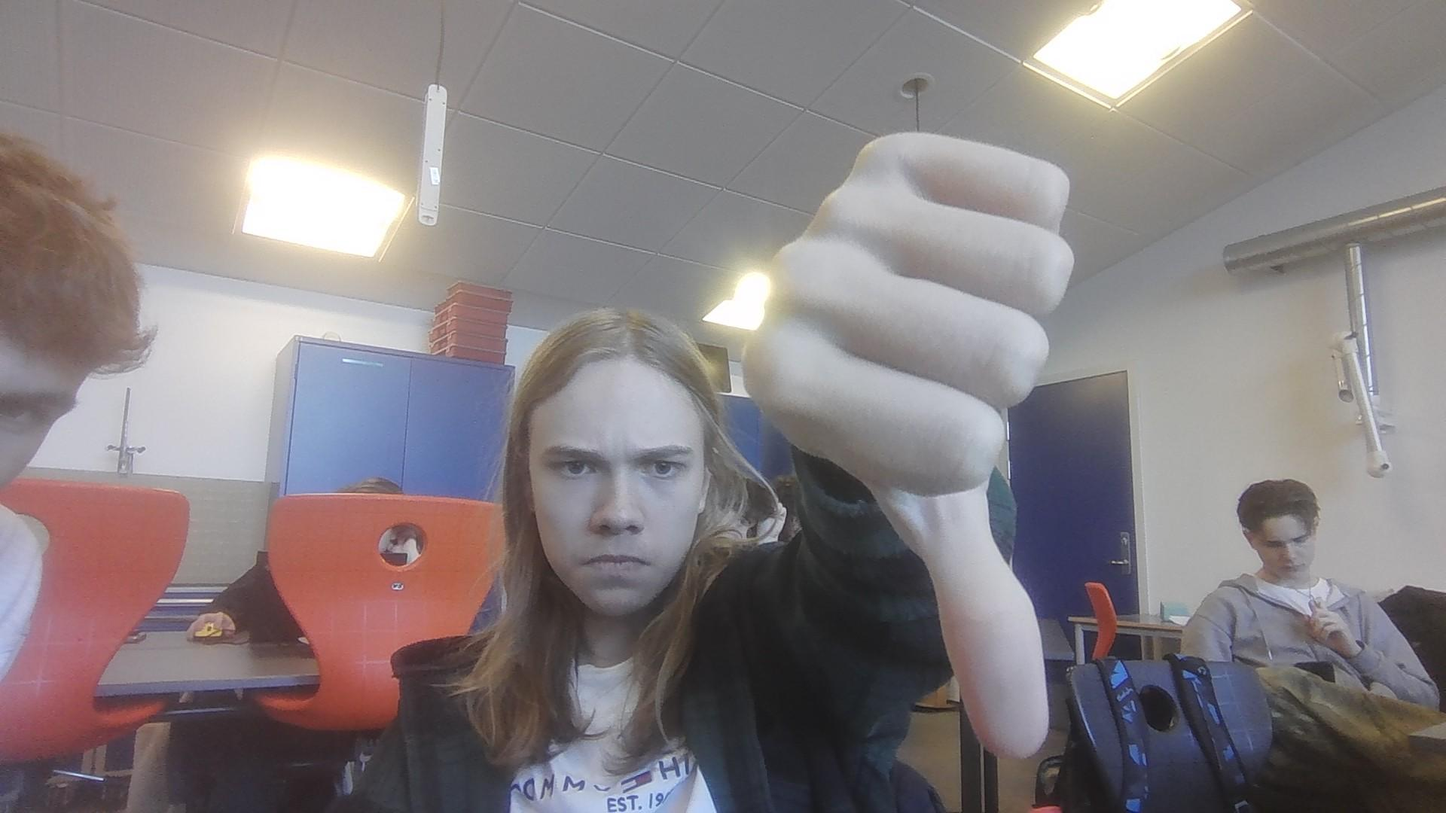thumbs down: (746, 130, 1106, 759)
